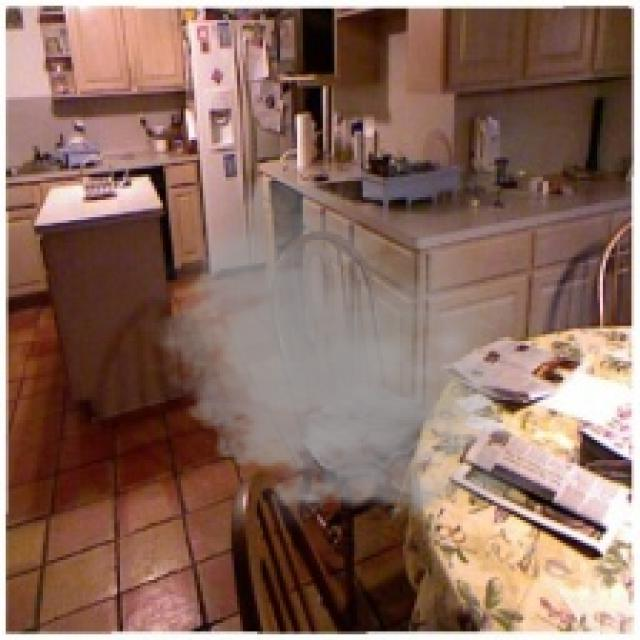smoke: (140, 166, 540, 534)
